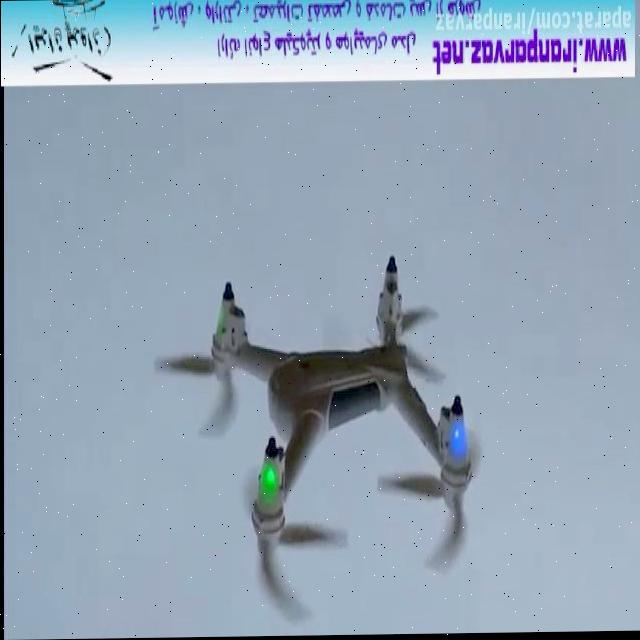drone: (149, 245, 493, 630)
